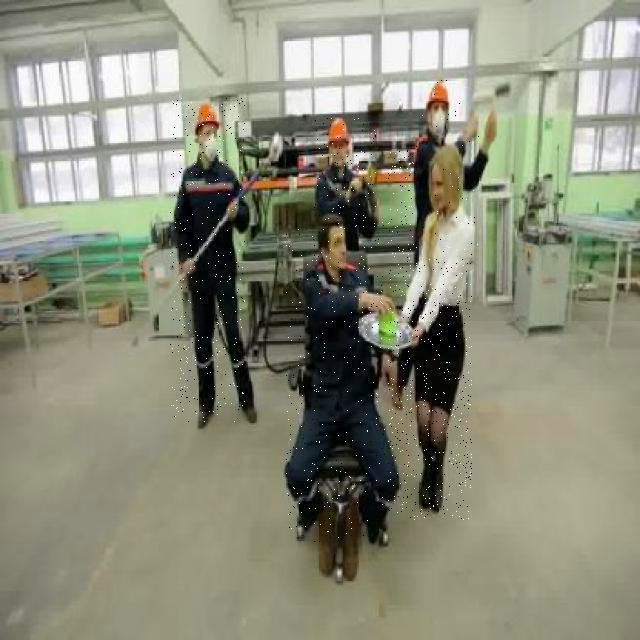10: (286, 222, 385, 542), (388, 150, 472, 520), (170, 98, 245, 424), (414, 83, 479, 259), (314, 118, 376, 226)
2: (410, 73, 462, 148), (181, 96, 228, 170), (319, 116, 353, 174)
8: (298, 204, 374, 278), (412, 134, 477, 218)
9: (386, 202, 482, 364), (156, 159, 247, 305), (293, 263, 375, 416)
helmet_white: (178, 352, 222, 432), (219, 356, 265, 429)
